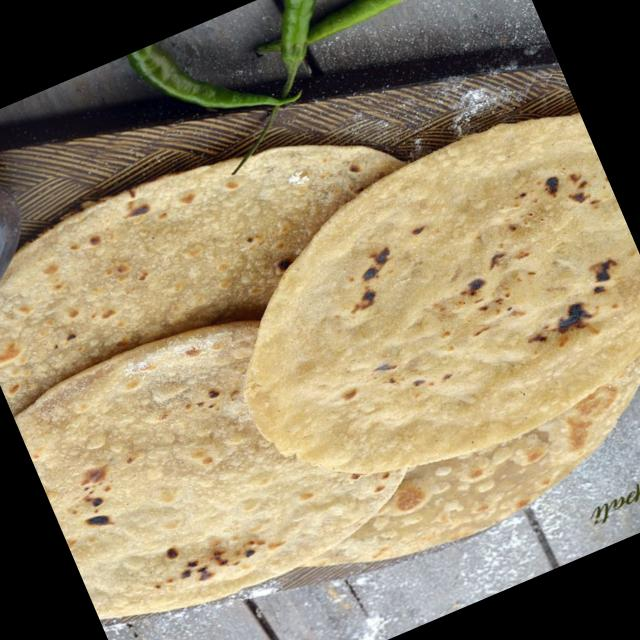roti: (241, 107, 640, 478), (15, 319, 394, 613), (0, 148, 398, 412), (308, 357, 640, 575)
